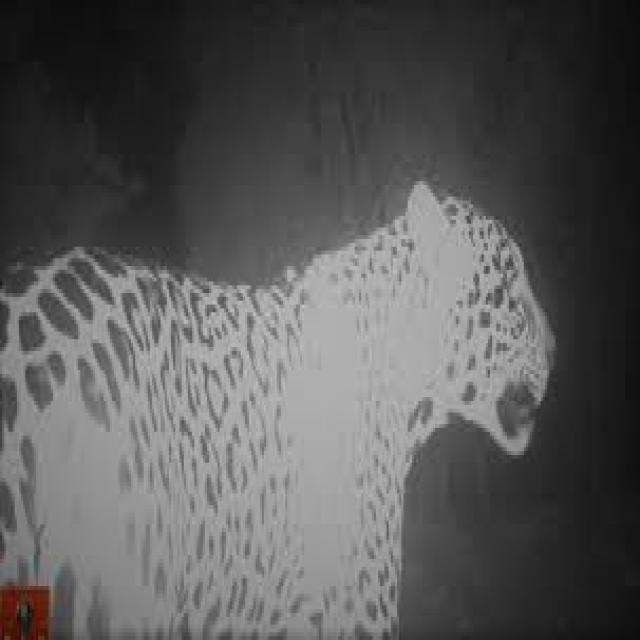Jaguar: (0, 177, 562, 640)
